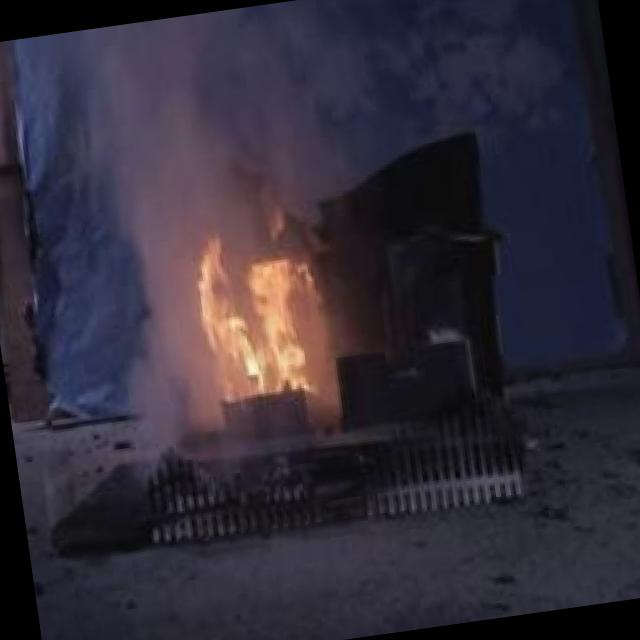fire: (182, 220, 336, 418)
